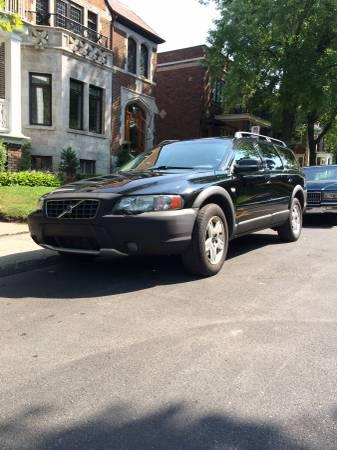volvo: (20, 108, 313, 284)
